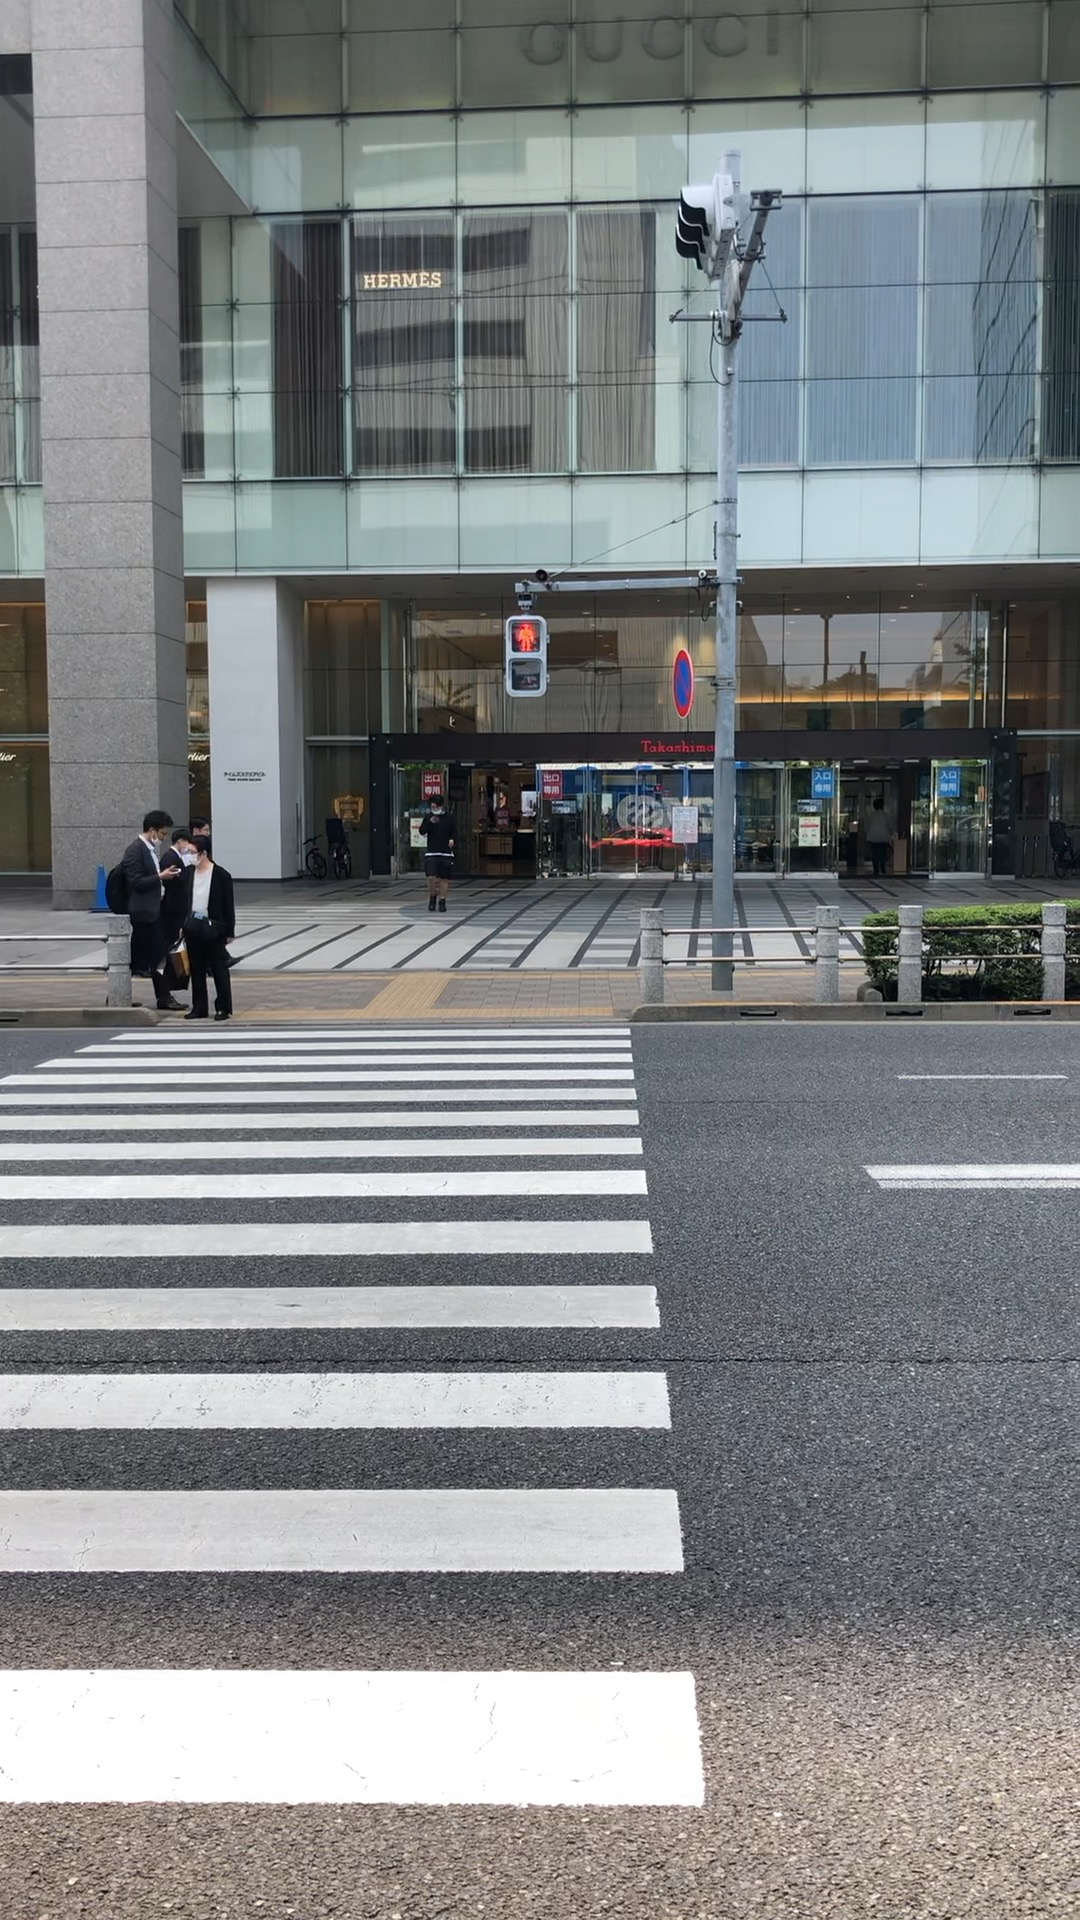red: (504, 616, 547, 698)
